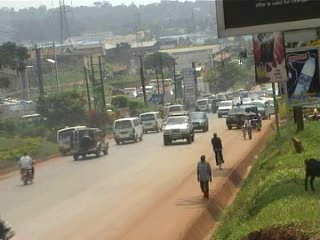Car: (64, 126, 110, 160), (160, 113, 195, 145), (188, 108, 210, 133), (208, 97, 227, 115), (217, 100, 233, 118), (240, 96, 256, 104)
Motorcycle: (18, 157, 36, 186)
